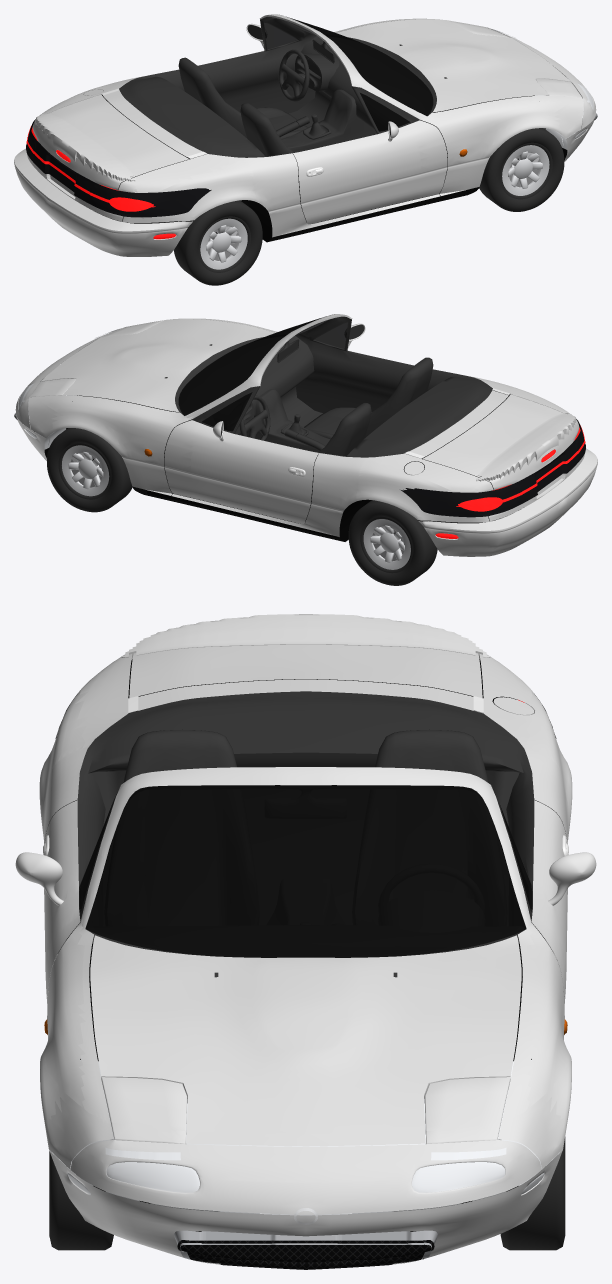
File: mazdo_miota.glb
3 views of the same model, one above another, from view 1: azimuth 30°, elevation 25°; view 2: azimuth 150°, elevation 25°; view 3: azimuth 270°, elevation 25° (orthographic). The views are drawn at different scales.
Visible parts, largest first — view 1: liner_trim, part_door_fr, part_trunk, part_hood, part_fender_fr, part_rear_bumper, wheel_rr, wheel_fr, part_glass, part_quarter_rr, part_front_bumper, part_roof (+2 smaller); view 2: liner_trim, part_door_fl, part_trunk, part_hood, part_fender_fl, part_rear_bumper, wheel_rl, wheel_fl, part_glass, part_quarter_rl, part_front_bumper, part_roof (+2 smaller); view 3: liner_trim, part_hood, part_glass, part_front_bumper, part_trunk, part_roof, part_fender_fl, part_fender_fr, part_door_fl, part_door_fr, core, headlight_r (+5 smaller).
Boxes of the visible parts, left/top/right/bottom form: liner_trim: left=26, top=17, right=597, bottom=242; part_door_fr: left=244, top=112, right=421, bottom=237; part_trunk: left=32, top=78, right=245, bottom=219; part_hood: left=335, top=18, right=573, bottom=118; part_fender_fr: left=411, top=95, right=565, bottom=201; part_rear_bumper: left=14, top=148, right=194, bottom=256; wheel_rr: left=174, top=200, right=262, bottom=285; wheel_fr: left=479, top=128, right=564, bottom=211; part_glass: left=264, top=16, right=433, bottom=131; part_quarter_rr: left=76, top=151, right=255, bottom=220; part_front_bumper: left=477, top=25, right=596, bottom=161; part_roof: left=260, top=14, right=392, bottom=101; liner_trim: left=14, top=316, right=585, bottom=541; part_door_fl: left=190, top=411, right=367, bottom=536; part_trunk: left=367, top=378, right=579, bottom=519; part_hood: left=38, top=318, right=276, bottom=418; part_fender_fl: left=46, top=399, right=200, bottom=501; part_rear_bumper: left=417, top=448, right=597, bottom=556; wheel_rl: left=348, top=500, right=437, bottom=585; wheel_fl: left=47, top=428, right=132, bottom=512; part_glass: left=178, top=316, right=347, bottom=431; part_quarter_rl: left=356, top=460, right=489, bottom=520; part_front_bumper: left=15, top=325, right=135, bottom=460; part_roof: left=219, top=314, right=351, bottom=401; liner_trim: left=43, top=659, right=568, bottom=1259; part_hood: left=77, top=852, right=534, bottom=1134; part_glass: left=79, top=785, right=532, bottom=957; part_front_bumper: left=44, top=1092, right=567, bottom=1264; part_trunk: left=74, top=614, right=533, bottom=748; part_roof: left=99, top=767, right=512, bottom=858; part_fender_fl: left=475, top=900, right=571, bottom=1134; part_fender_fr: left=40, top=900, right=136, bottom=1134; part_door_fl: left=522, top=746, right=596, bottom=996; part_door_fr: left=15, top=746, right=89, bottom=996; core: left=44, top=1019, right=567, bottom=1269; headlight_r: left=49, top=1060, right=305, bottom=1215.
Size of the model in its own units: 3.97 by 1.21 by 1.92.
Materials: 16 (2 with a texture image).
